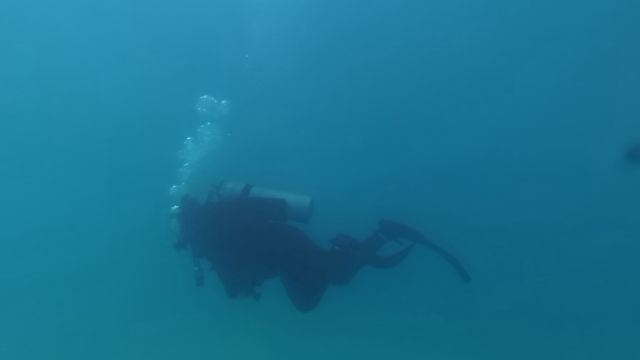Diver: (165, 177, 480, 320)
